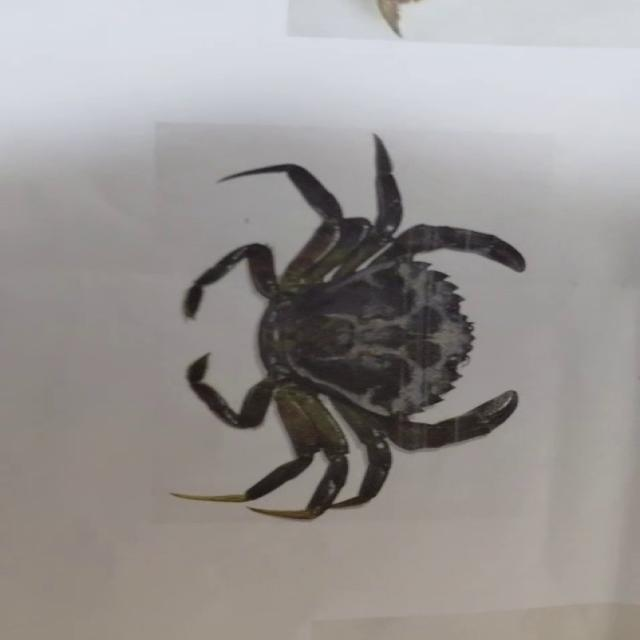egc: (171, 135, 525, 519)
